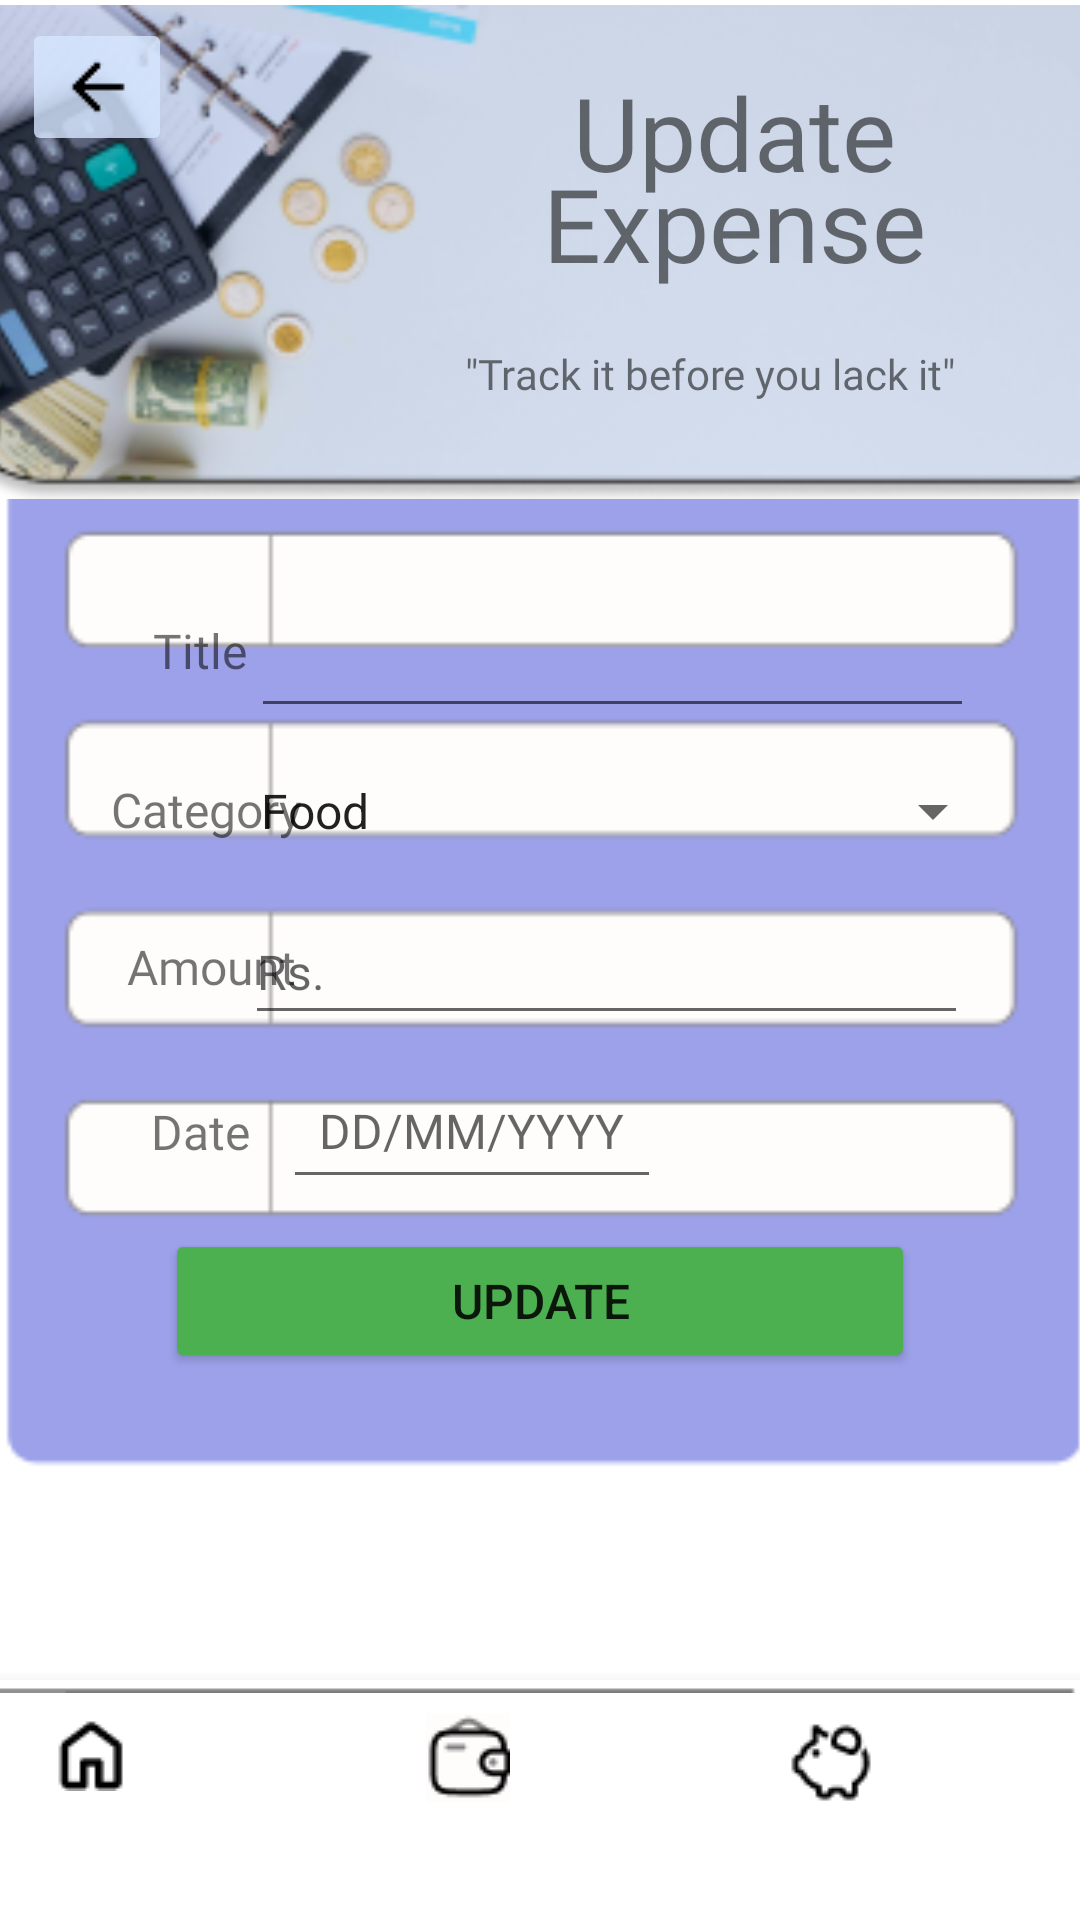

Where to tap for icons on this 1080px×1920px app screen, as [x,y]:
backbtn: [97,87]
homent: [90,1756]
savingsel: [831,1762]
walletnt: [469,1757]
